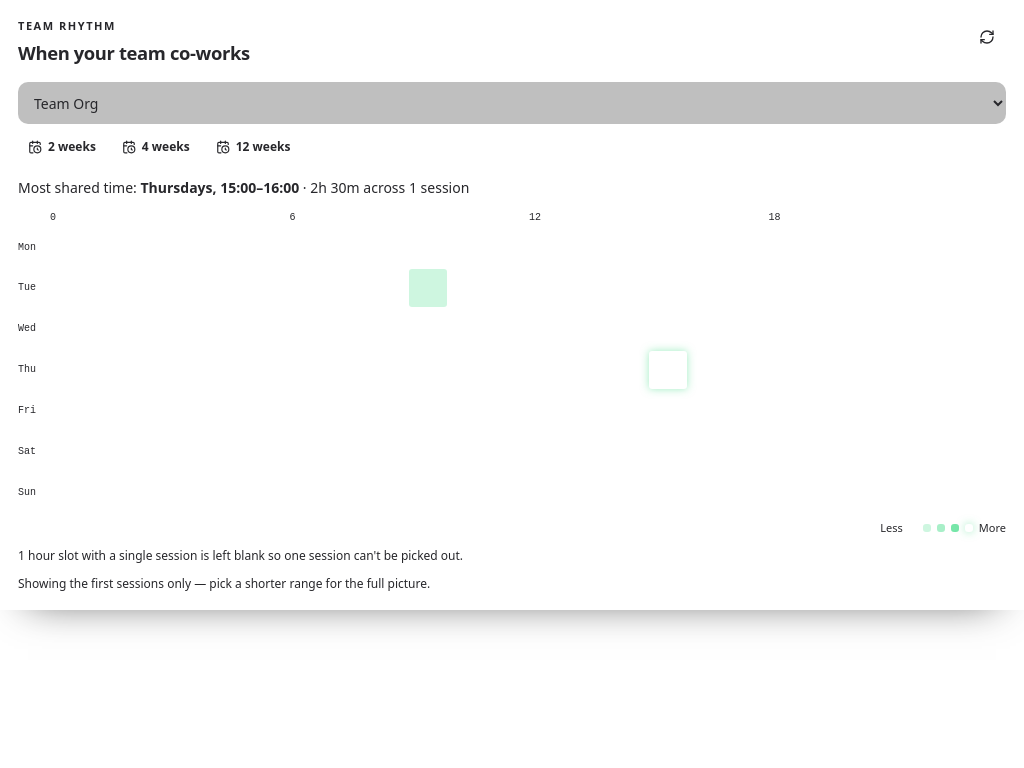
it: TeamRhythm › skips an organization without a team on first load, then honours a manual pick
Expected: the text "· 2h 30m across 1 session" is shown, [299,178,469,197]
Expected: the text "pick a shorter range" is shown, [18,575,430,592]
Select "Personal" in the dropdown named "Organization" at (512, 103), box [18,82,1006,124]
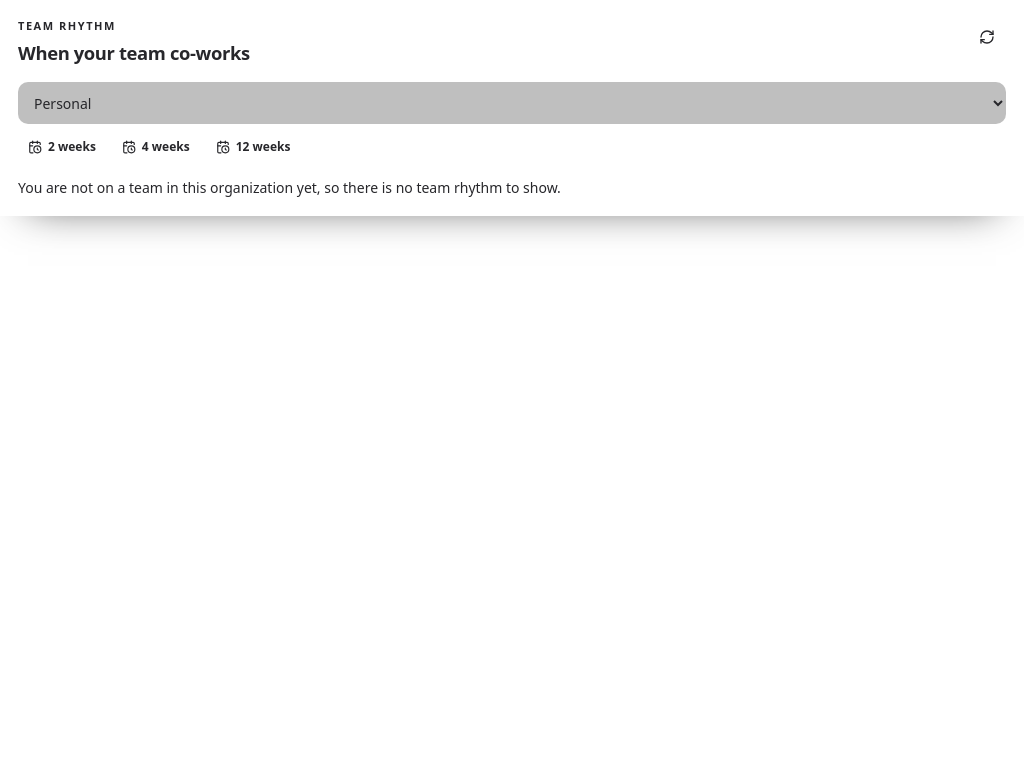
Result: the text "not on a team in this organization" is shown at [18,178,561,197]
